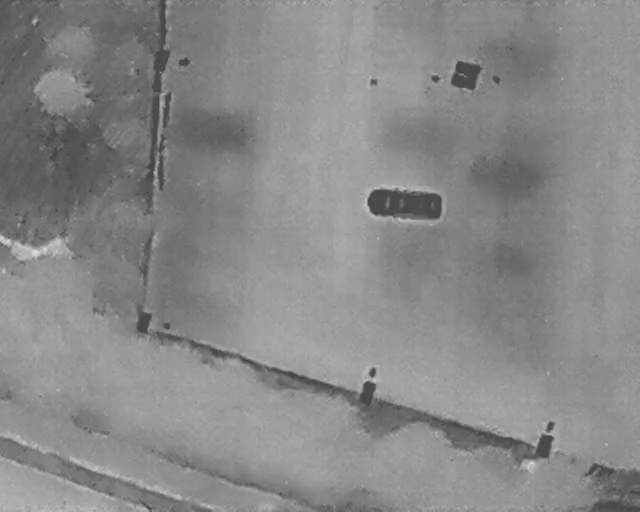Car: (366, 184, 443, 222)
